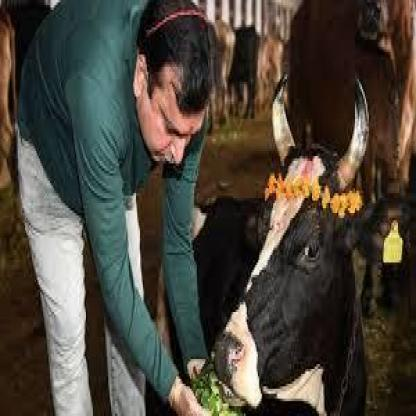cow: (208, 72, 416, 416), (288, 0, 415, 210), (209, 15, 236, 121), (230, 21, 258, 123)
